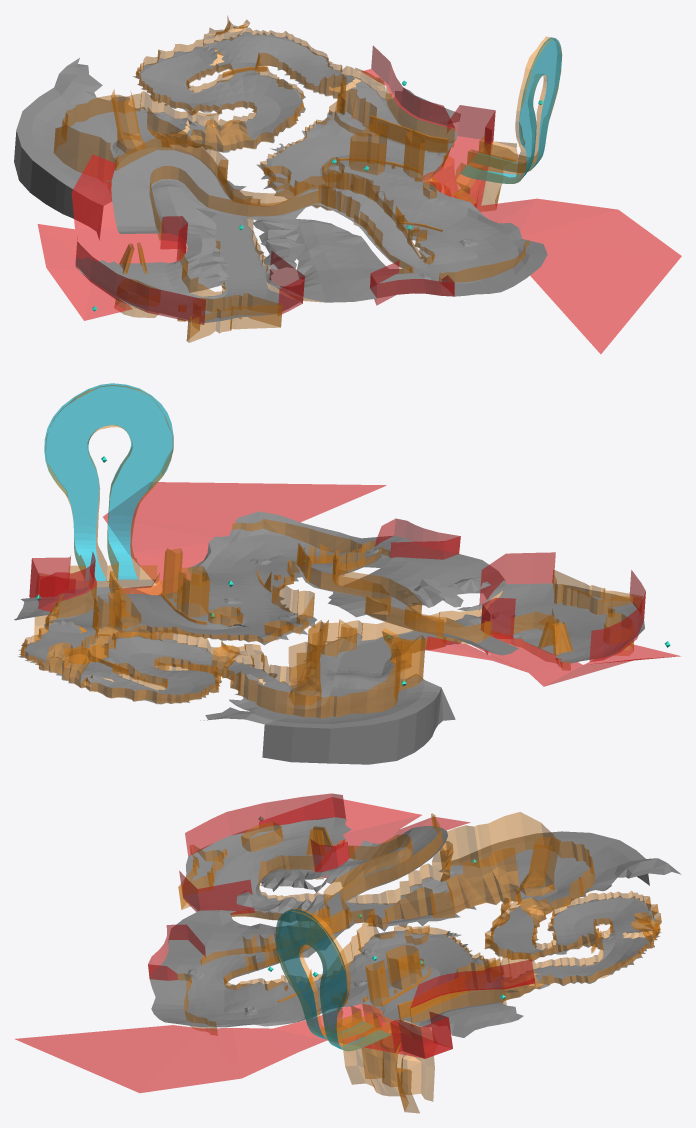
Rendered from OOT(Complete).obj.
3 renders of one model, top to bottom at view 1: azimuth 30°, elevation 25°; view 2: azimuth 150°, elevation 25°; view 3: azimuth 270°, elevation 25°, orthographic. The views are drawn at different scales.
Visible parts, largest first — view 1: COL_slowsandtrack, COL_wall_col, COL_track, COL_reset01, COL_reset02, COL_groundreset02, COL_maglev_col, COL_reset_3rdramp, COL_groundreset01; view 2: COL_slowsandtrack, COL_wall_col, COL_track, COL_reset01, COL_maglev_col, COL_reset02, COL_groundreset02, COL_groundreset01, COL_reset_3rdramp; view 3: COL_wall_col, COL_slowsandtrack, COL_track, COL_reset01, COL_maglev_col, COL_groundreset02, COL_reset02, COL_reset_3rdramp, COL_groundreset01.
Part boxes in pixels (x1,y1,x2,y2): COL_slowsandtrack: [14, 32, 547, 322]; COL_wall_col: [53, 15, 562, 342]; COL_track: [73, 36, 518, 309]; COL_reset01: [422, 105, 681, 353]; COL_reset02: [37, 154, 187, 320]; COL_groundreset02: [75, 237, 304, 324]; COL_maglev_col: [461, 37, 561, 183]; COL_reset_3rdramp: [361, 45, 454, 128]; COL_groundreset01: [370, 261, 454, 305]; COL_slowsandtrack: [14, 511, 644, 764]; COL_wall_col: [20, 385, 642, 718]; COL_track: [24, 534, 605, 715]; COL_reset01: [29, 482, 386, 597]; COL_maglev_col: [44, 383, 173, 580]; COL_reset02: [425, 598, 680, 686]; COL_groundreset02: [479, 552, 645, 661]; COL_groundreset01: [375, 518, 460, 559]; COL_reset_3rdramp: [38, 552, 96, 611]; COL_wall_col: [177, 812, 661, 1113]; COL_slowsandtrack: [149, 817, 681, 1037]; COL_track: [186, 826, 653, 1024]; COL_reset01: [15, 1004, 452, 1092]; COL_maglev_col: [275, 909, 390, 1050]; COL_groundreset02: [179, 793, 346, 914]; COL_reset02: [259, 797, 470, 877]; COL_reset_3rdramp: [410, 959, 535, 1008]; COL_groundreset01: [148, 924, 205, 980].
Size of the model in its own units: 379 by 145 by 425.
